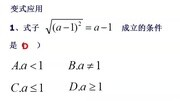sqrt: (46, 16, 83, 36)
square: (77, 21, 82, 26)
